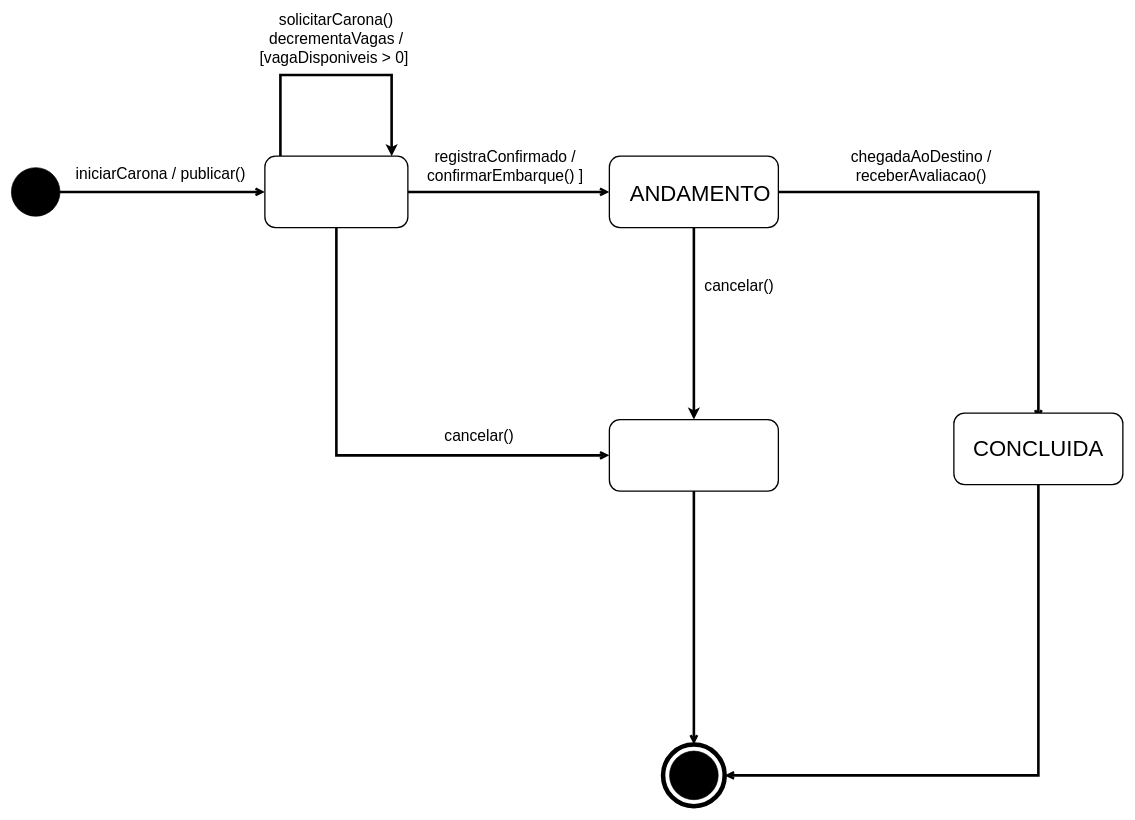
Image size: 1135x820. Some labels were removed from this diagram. The shapes that lost their labels are listed below. From the top down, each one's centre as x and y in pixels, then its label:
At (x=336, y=191): "ATIVA".
At (x=693, y=455): "CANCELADA".
